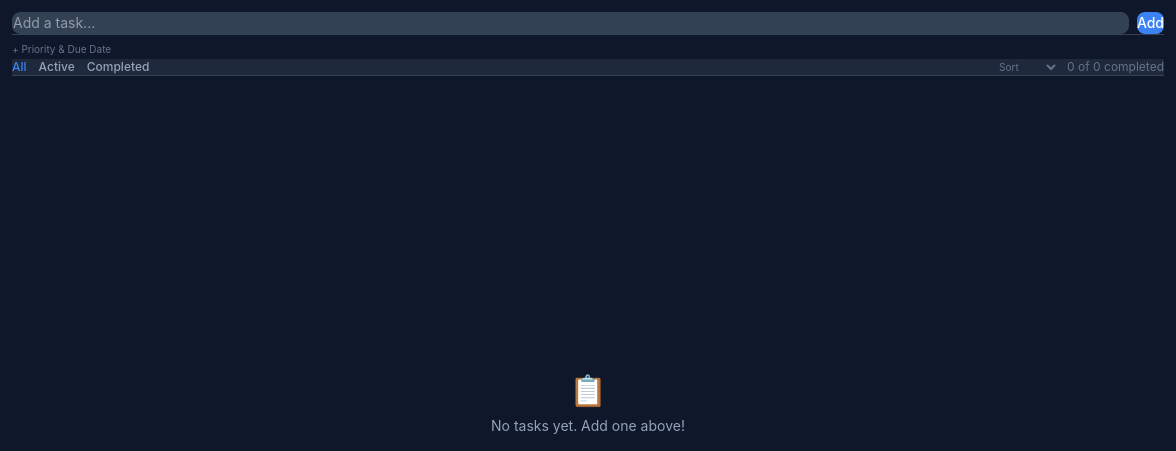
Test: Tasks › can add a task
This screenshot has width=1176, height=451.
In the field with placeholder "Add a task...": (570, 23) [12, 12, 1129, 34], type "Test task"
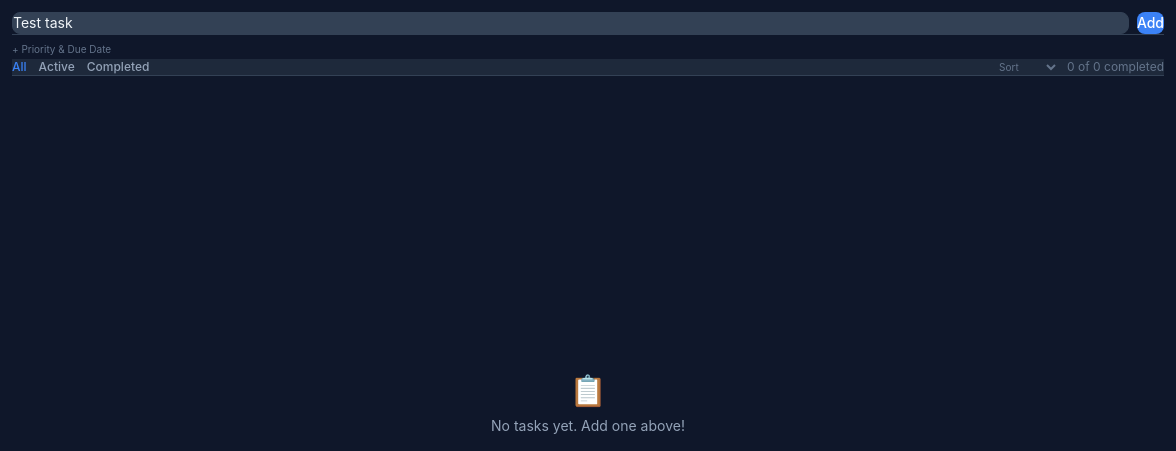
Click the button "Add": click(1150, 23) [1137, 12, 1164, 34]
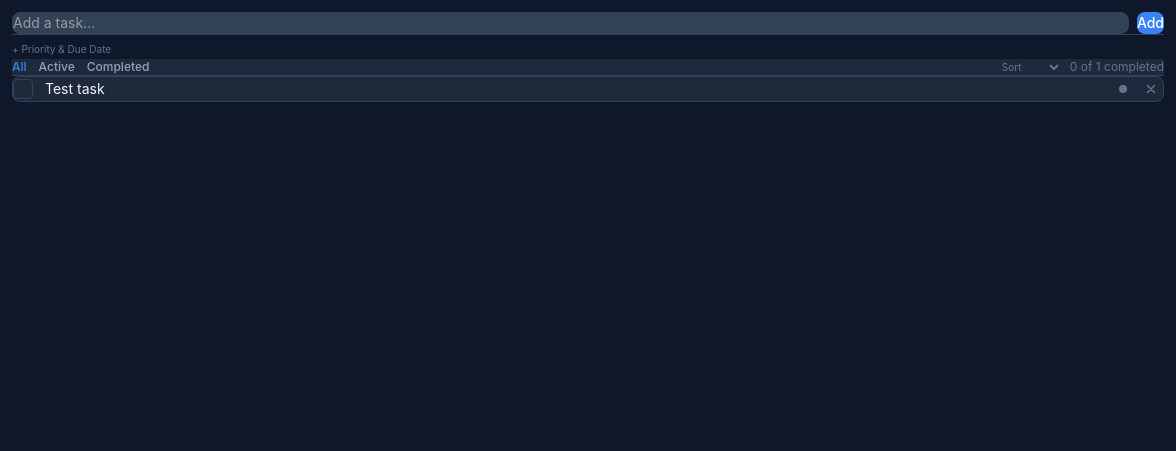
Check: the text "Test task" is shown, box [45, 80, 105, 97]
